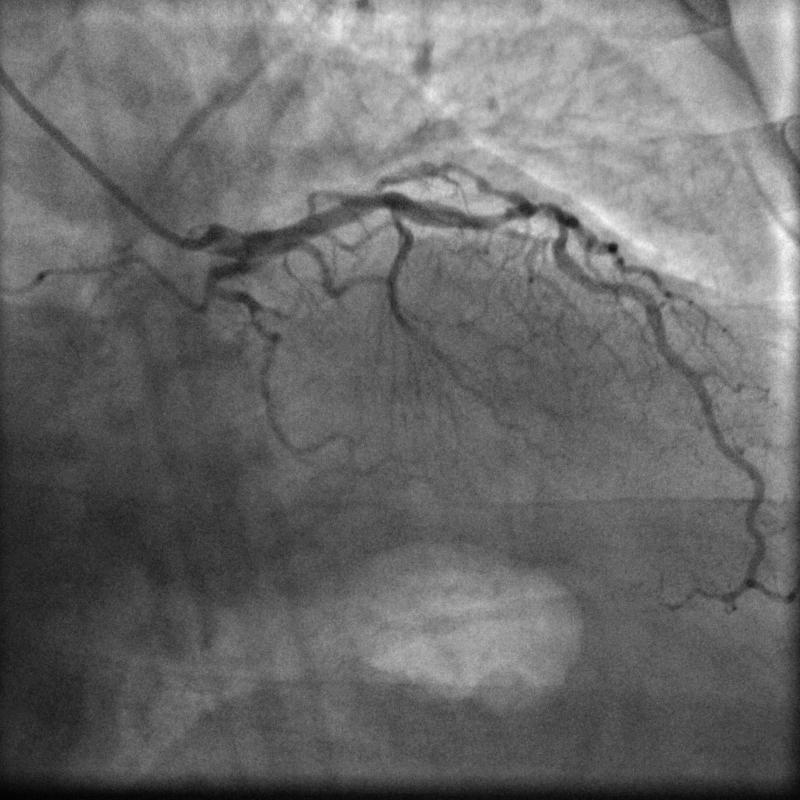Stenosis: (491, 200, 566, 240)
